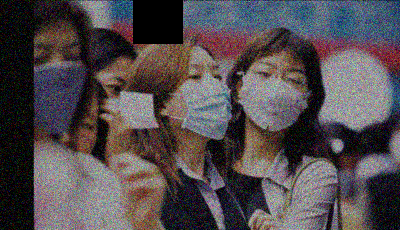with_mask: (34, 39, 87, 137), (242, 59, 309, 134), (167, 62, 231, 138)
